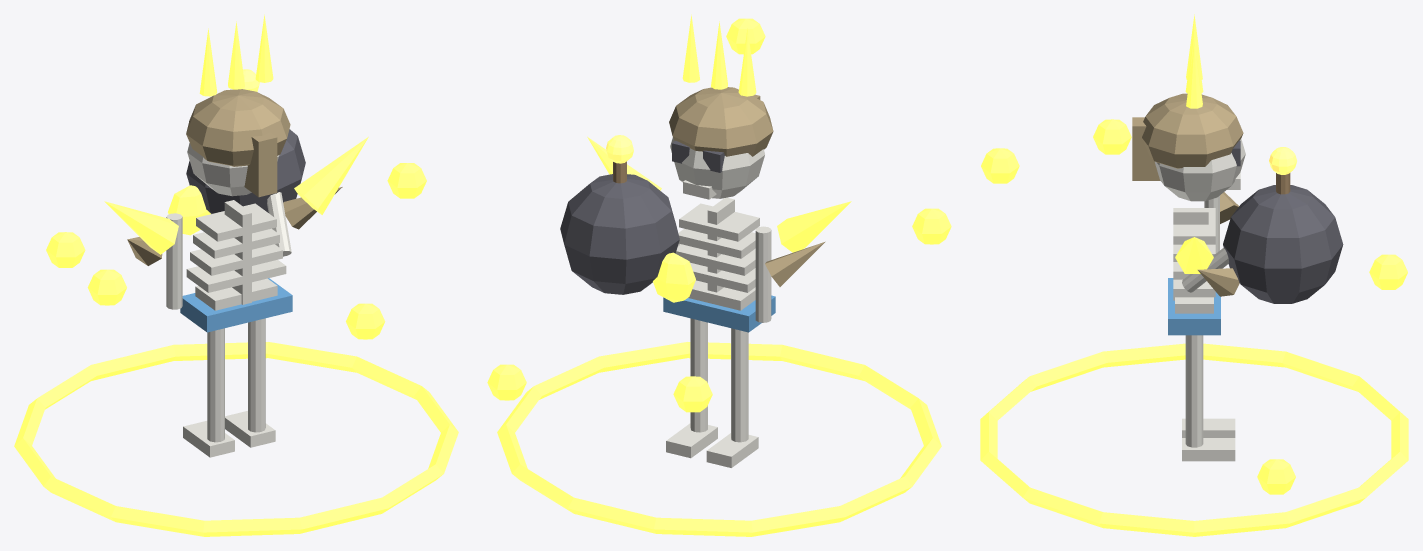
File: evolved_bomber.glb
3 views of the same model, side by side, from view 1: azimuth 30°, elevation 25°; view 2: azimuth 150°, elevation 25°; view 3: azimuth 270°, elevation 25° (orthographic).
Visible parts, largest first — view 1: evolved_bomber; view 2: evolved_bomber; view 3: evolved_bomber.
Part boxes in pixels (box(x1,y1,x2,y2)): evolved_bomber: box(14, 14, 458, 536); evolved_bomber: box(487, 14, 951, 536); evolved_bomber: box(980, 14, 1408, 536).
Bounding box in the file's own units: 2.73 × 2.88 × 2.66.
